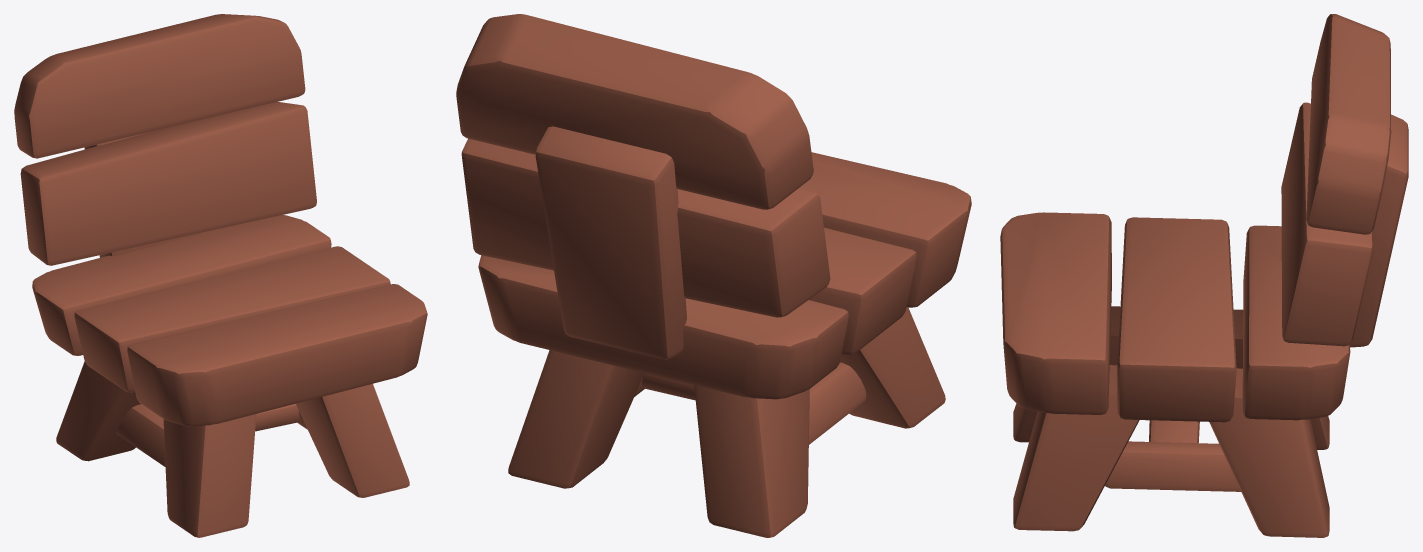
File: chairUpdated.fbx
3 renders of one model, left to right at view 1: azimuth 30°, elevation 25°; view 2: azimuth 150°, elevation 25°; view 3: azimuth 270°, elevation 25°, orthographic. The views are drawn at different scales.
Parts seen in each view (by area): view 1: chair; view 2: chair; view 3: chair.
Boxes of the visible parts, left/top/right/bottom form: chair: left=14, top=14, right=427, bottom=537; chair: left=456, top=14, right=971, bottom=537; chair: left=1000, top=14, right=1408, bottom=537.
Size of the model in its own units: 74.66 by 99.07 by 87.94.
